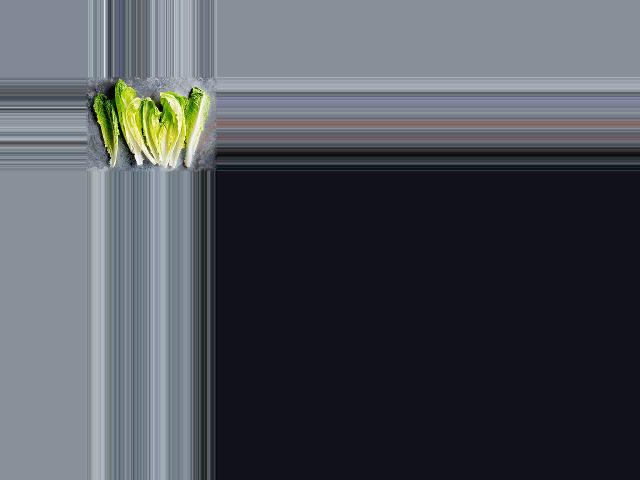lettuce: (95, 94, 120, 170)
